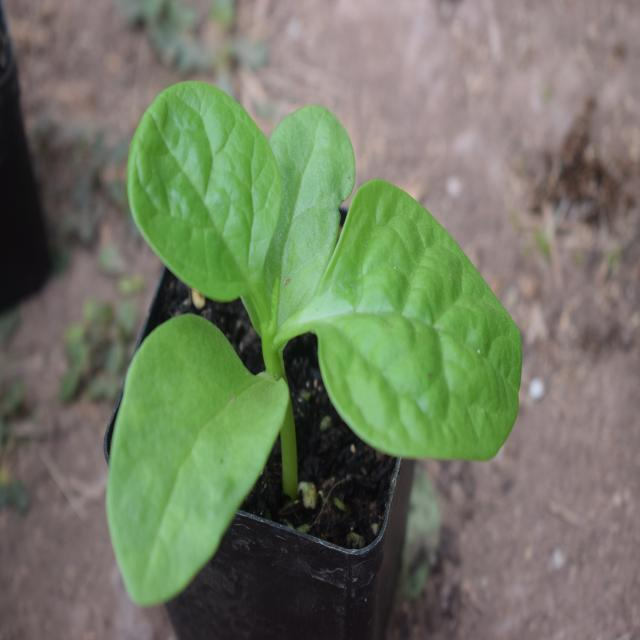Ceylon spinach: (61, 104, 518, 581)
